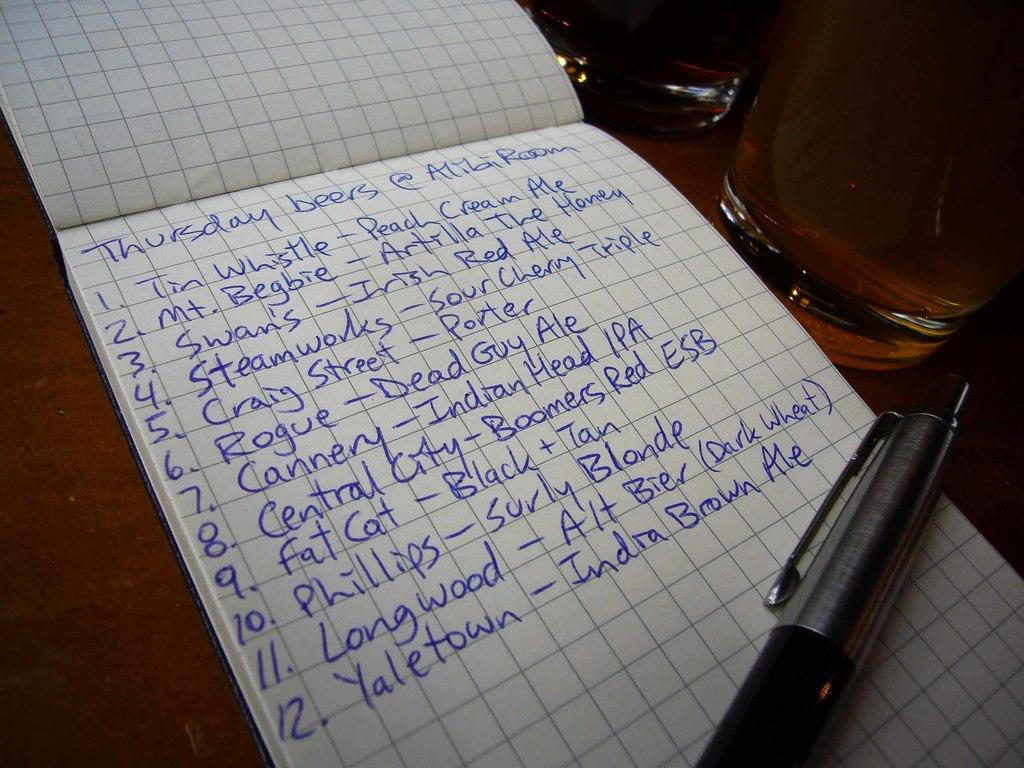pen: (694, 369, 976, 767)
